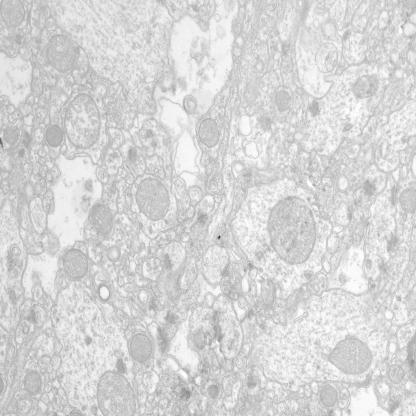mitochondria: (268, 195, 318, 265), (64, 92, 101, 150), (96, 369, 137, 416), (328, 336, 372, 376), (134, 176, 171, 222), (44, 33, 75, 74), (61, 248, 90, 280), (88, 202, 114, 237), (128, 332, 154, 364), (351, 73, 379, 100), (198, 117, 221, 148), (0, 0, 26, 27), (23, 368, 43, 398), (399, 185, 416, 217), (319, 382, 339, 408), (45, 123, 64, 149), (387, 364, 407, 386), (274, 90, 293, 111), (2, 125, 20, 145)
